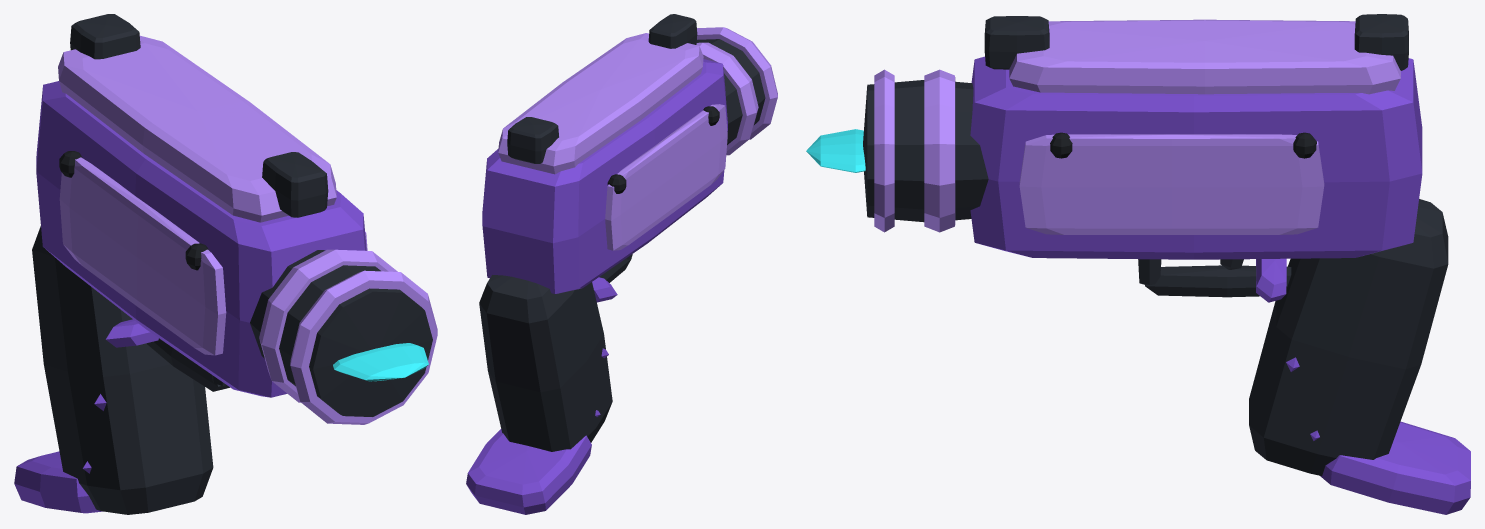
The model's file is g-pistol-1.glb.
3 renders of one model, left to right at view 1: azimuth 30°, elevation 25°; view 2: azimuth 150°, elevation 25°; view 3: azimuth 270°, elevation 25°, orthographic. The views are drawn at different scales.
Parts seen in each view (by area): view 1: gun; view 2: gun; view 3: gun.
Boxes of the visible parts, left/top/right/bottom form: gun: left=14, top=14, right=437, bottom=514; gun: left=466, top=14, right=777, bottom=514; gun: left=806, top=14, right=1470, bottom=514.
Size of the model in its own units: 0.1708 by 0.4716 by 0.6016.
